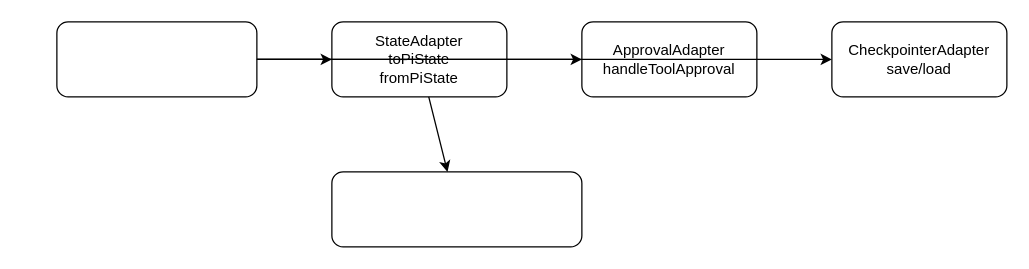
The diagram is 1029 pixels wide and 269 high, and some of its shapes have lost their labels. The shapes that lost their labels are listed below. From the top down, each one's centre as x and y in pixels, then its label:
At point (156, 59): "PiWorkflow execute(ticket,phase,input):PipelineState".
At point (456, 209): "PipelineState ticketKey,piSessionId,currentAgentId".
